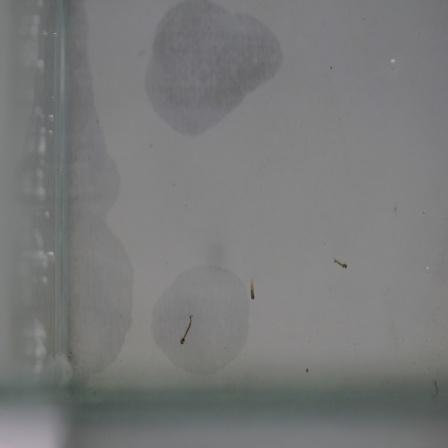Jentik-Nyamuk: (175, 309, 199, 351), (244, 276, 262, 307), (328, 254, 356, 273)
